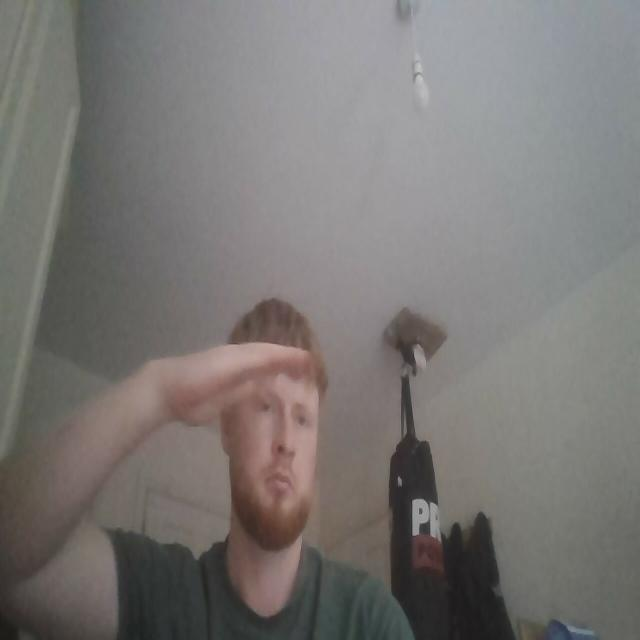papper: (134, 341, 310, 432)
